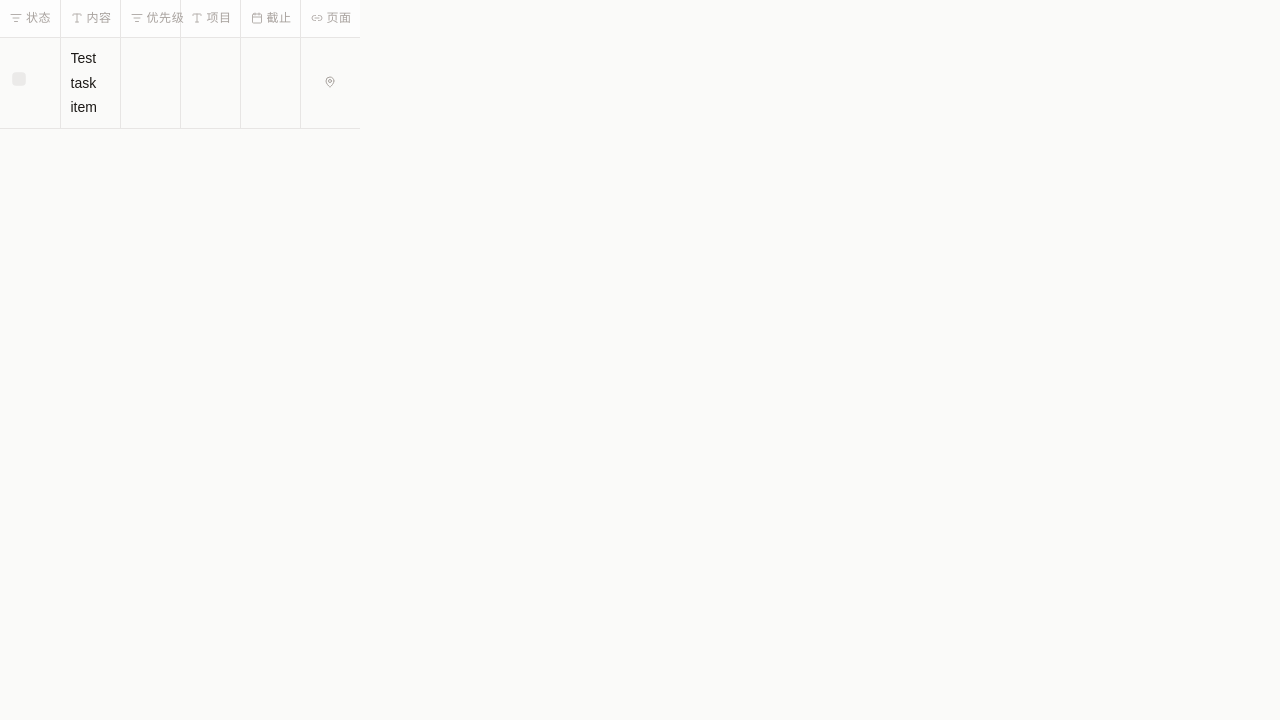
Test case: TableView column resize (ADR-0013) › opens a column menu on header title click
Click the button with class "th-label" showing "内容": (99, 18) [86,8,112,29]
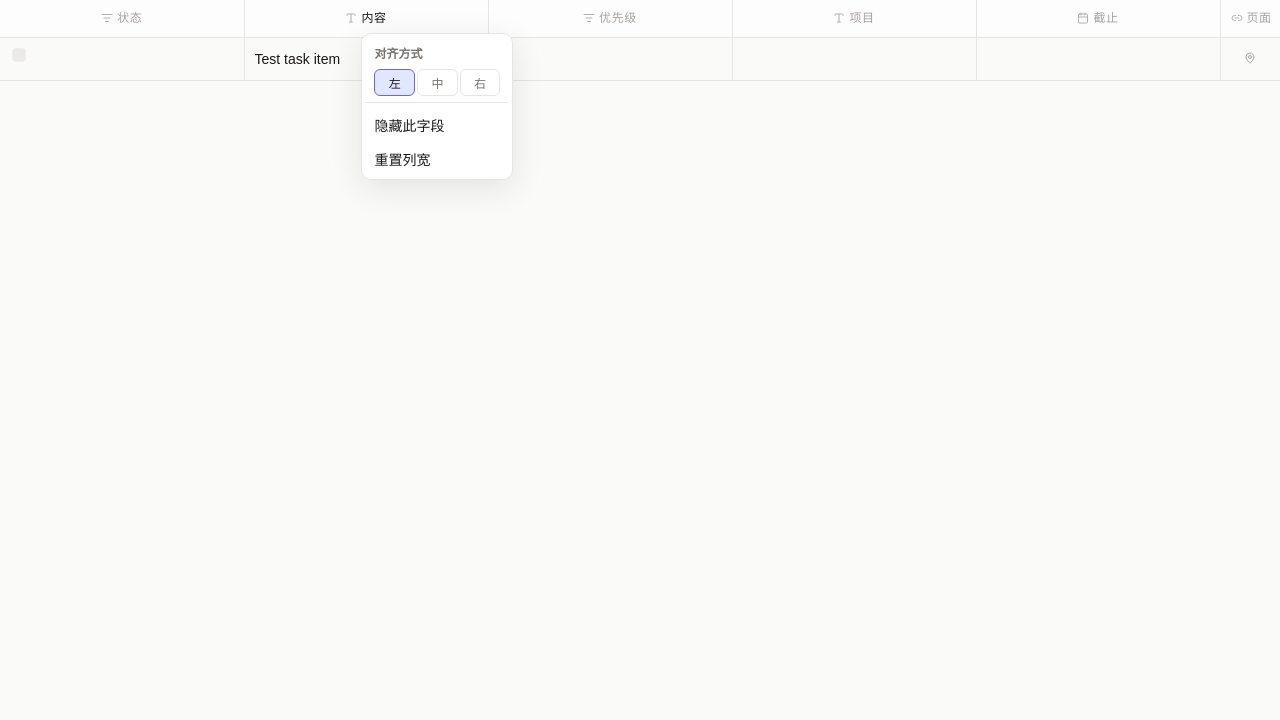
Now the element with test id "col-menu" is shown, box [362,34,512,179]
Now the element with test id "col-menu" shows "对齐方式", box [374,47,422,61]
Now the element with test id "col-menu" shows "隐藏此字段", box [366,109,508,141]
